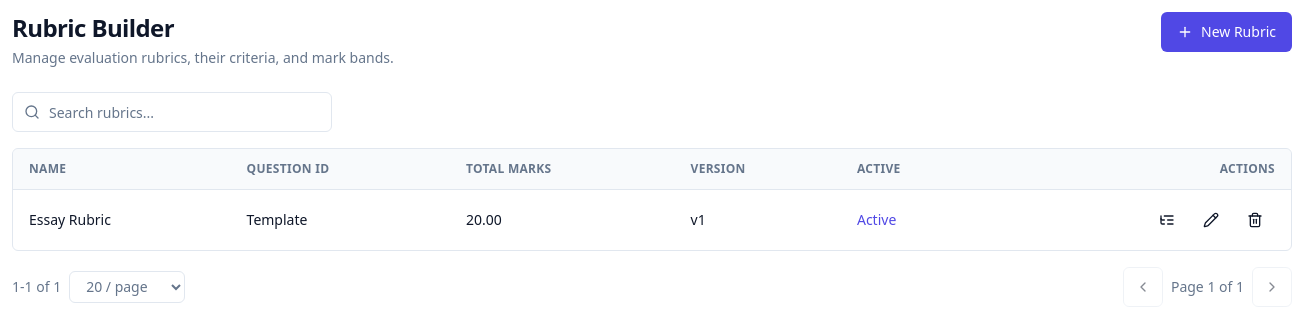
Scenario: RubricBuilderPage › drills down into criteria and mark bands
The width and height of the screenshot is (1304, 324).
Check: the text "Essay Rubric" is shown, box [13,189,231,250]
Click the button named "Manage criteria for Essay Rubric".
click(1167, 220)  # box [1147,200,1187,240]
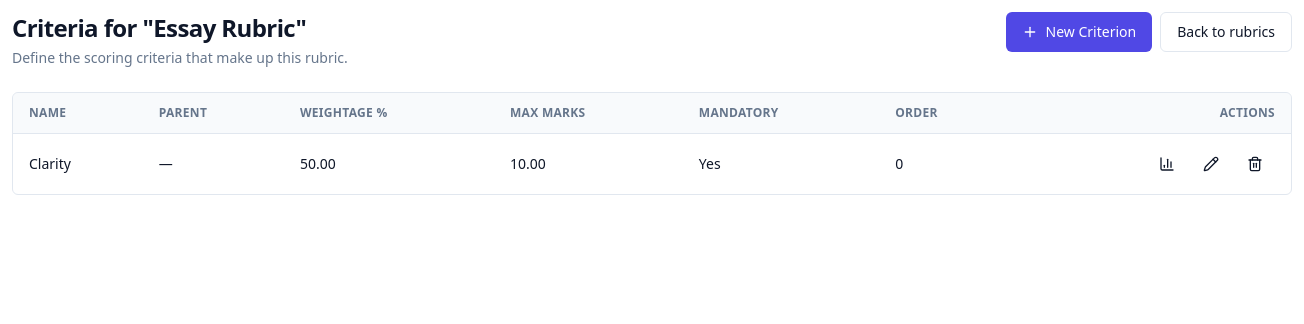
Check: the heading "Criteria for \"Essay Rubric\"" is shown, box [12,12,348,44]
Check: the text "Clarity" is shown, box [13,133,143,194]
Click the button named "Manage mark bands for Clarity".
click(1167, 164)  # box [1147,144,1187,184]
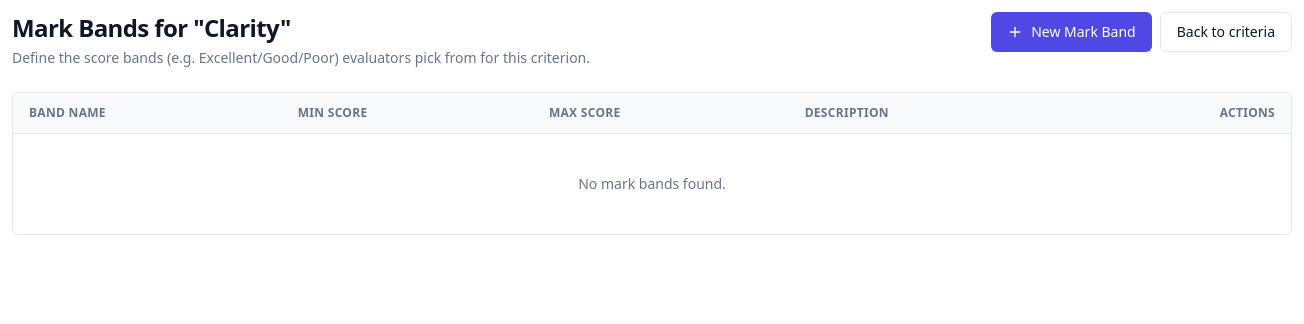
Check: the heading "Mark Bands for \"Clarity\"" is shown, box [12,11,291,44]
Check: the text "No mark bands found." is shown, box [13,133,1291,234]
